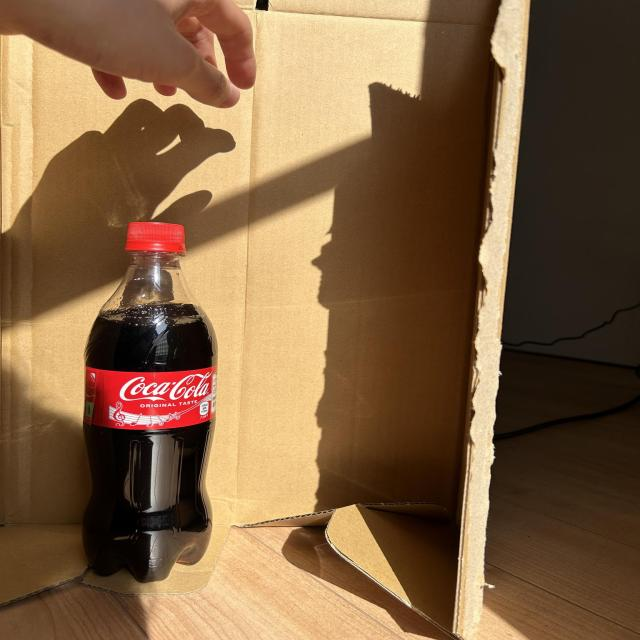high: (81, 221, 218, 583)
